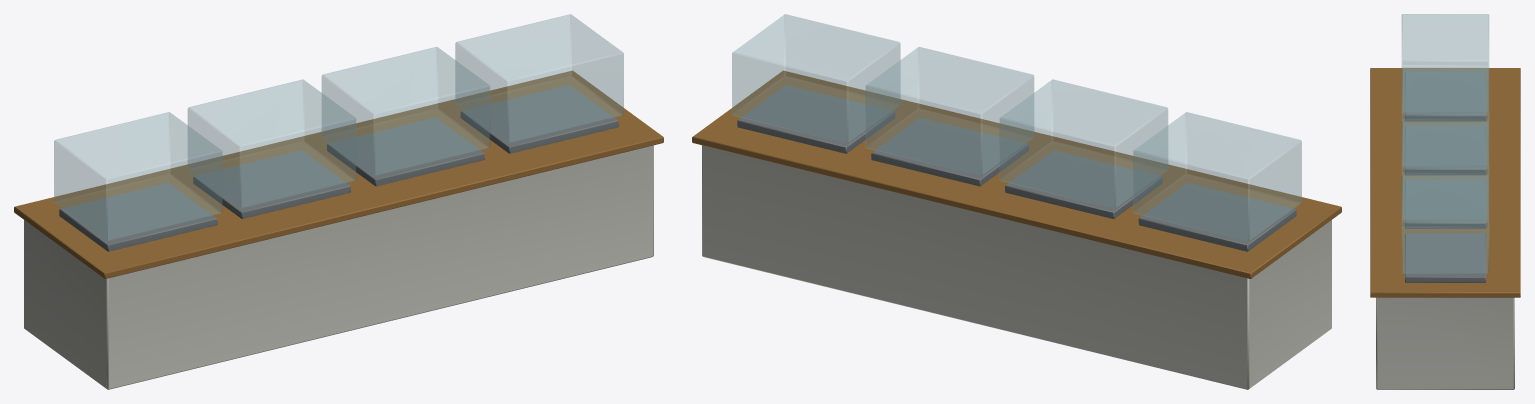
File: ap-lounge-buffet.glb
The picture shows the model from 3 angles, left to right: view 1: azimuth 30°, elevation 25°; view 2: azimuth 150°, elevation 25°; view 3: azimuth 270°, elevation 25°; orthographic projection. The views are drawn at different scales.
Parts seen in each view (by area): view 1: body__paint, hoods__glass, top__wood, trays__steel; view 2: body__paint, hoods__glass, top__wood, trays__steel; view 3: hoods__glass, top__wood, trays__steel, body__paint.
Boxes of the visible parts, left/top/right/bottom form: body__paint: left=24, top=145, right=653, bottom=389; hoods__glass: left=54, top=14, right=623, bottom=241; top__wood: left=14, top=70, right=663, bottom=278; trays__steel: left=59, top=85, right=618, bottom=251; body__paint: left=702, top=145, right=1331, bottom=389; hoods__glass: left=732, top=14, right=1301, bottom=241; top__wood: left=692, top=70, right=1341, bottom=278; trays__steel: left=737, top=85, right=1296, bottom=251; hoods__glass: left=1401, top=14, right=1489, bottom=273; top__wood: left=1370, top=68, right=1520, bottom=297; trays__steel: left=1405, top=72, right=1485, bottom=282; body__paint: left=1376, top=297, right=1514, bottom=389.
Bounding box in the file's own units: 4.6 × 1.55 × 1.3.
